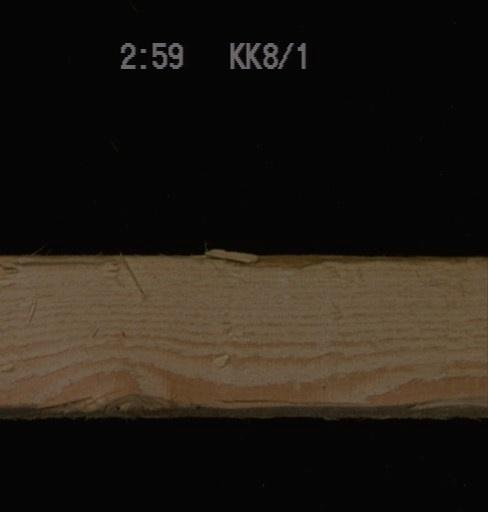split: (182, 253, 469, 278), (0, 254, 120, 276), (212, 395, 358, 406)
wave: (33, 383, 203, 415), (393, 392, 486, 416)
